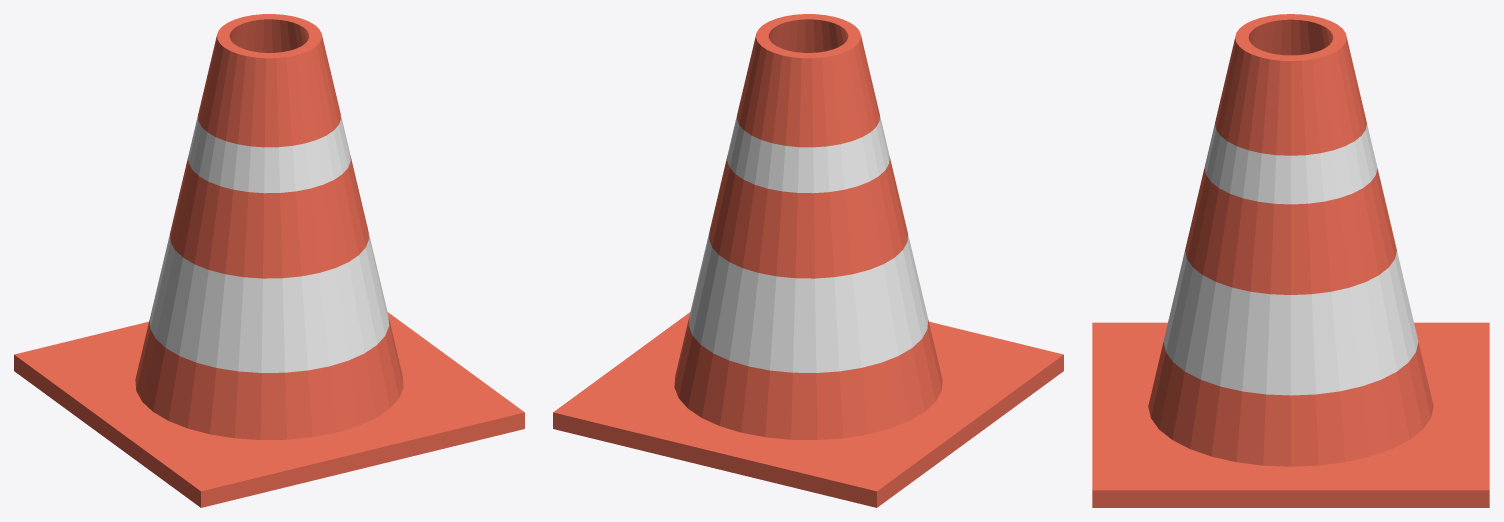
The model's file is traffic_cone 1.fbx.
3 renders of one model, left to right at view 1: azimuth 30°, elevation 25°; view 2: azimuth 150°, elevation 25°; view 3: azimuth 270°, elevation 25°, orthographic. The views are drawn at different scales.
Visible parts, largest first — view 1: Plane; view 2: Plane; view 3: Plane.
Boxes of the visible parts, x1=… form: Plane: x1=14, y1=14, x2=524, y2=507; Plane: x1=553, y1=14, x2=1063, y2=507; Plane: x1=1092, y1=14, x2=1489, y2=507.
Size of the model in its own units: 120 by 129 by 120.
